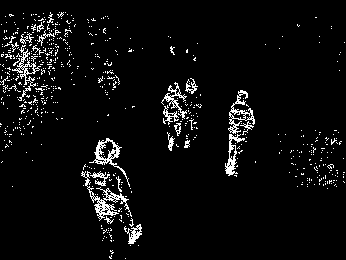person: (80, 137, 143, 257), (228, 90, 256, 180), (162, 84, 184, 149), (182, 78, 201, 148)
